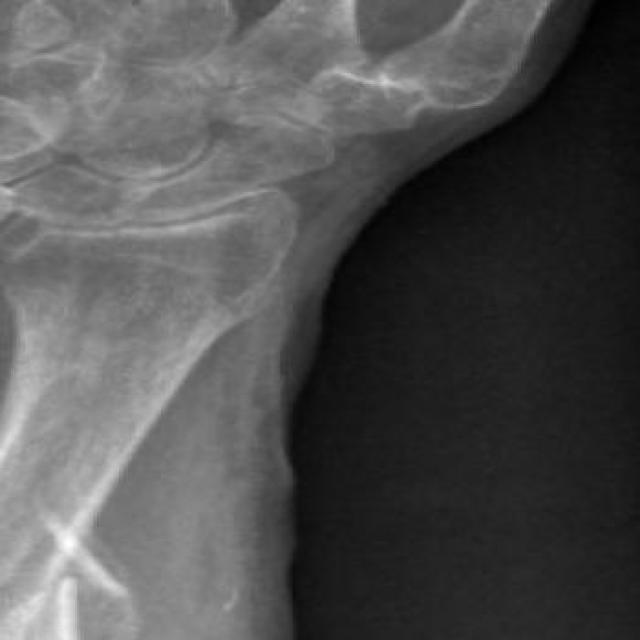fracture: (18, 557, 112, 604)
